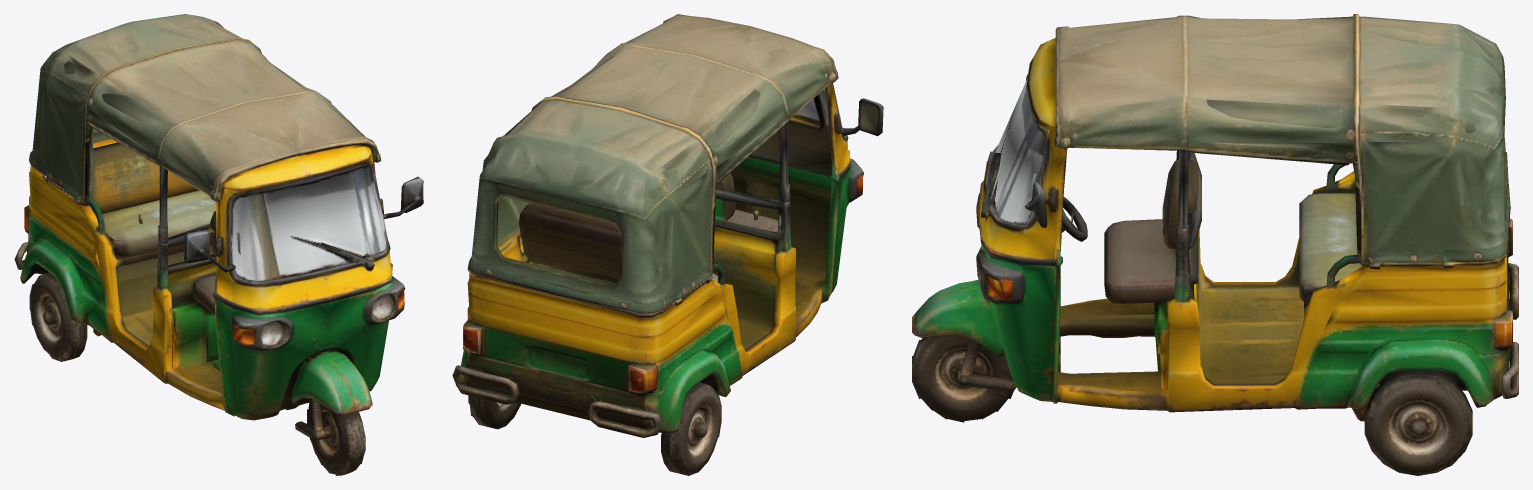
The model's file is keke.glb.
3 renders of one model, left to right at view 1: azimuth 30°, elevation 25°; view 2: azimuth 150°, elevation 25°; view 3: azimuth 270°, elevation 25°, orthographic. The views are drawn at different scales.
Visible parts, largest first — view 1: tripo_node_9008fffd-ad73-431a-a185-0f0270766af4; view 2: tripo_node_9008fffd-ad73-431a-a185-0f0270766af4; view 3: tripo_node_9008fffd-ad73-431a-a185-0f0270766af4.
Boxes of the visible parts, x1,y1,x2,y2 form: tripo_node_9008fffd-ad73-431a-a185-0f0270766af4: (14,14,423,475); tripo_node_9008fffd-ad73-431a-a185-0f0270766af4: (452,14,883,475); tripo_node_9008fffd-ad73-431a-a185-0f0270766af4: (912,14,1518,475).
Bounding box in the file's own units: 0.5376 × 0.6601 × 0.9777.
1 material, 1 textured.
